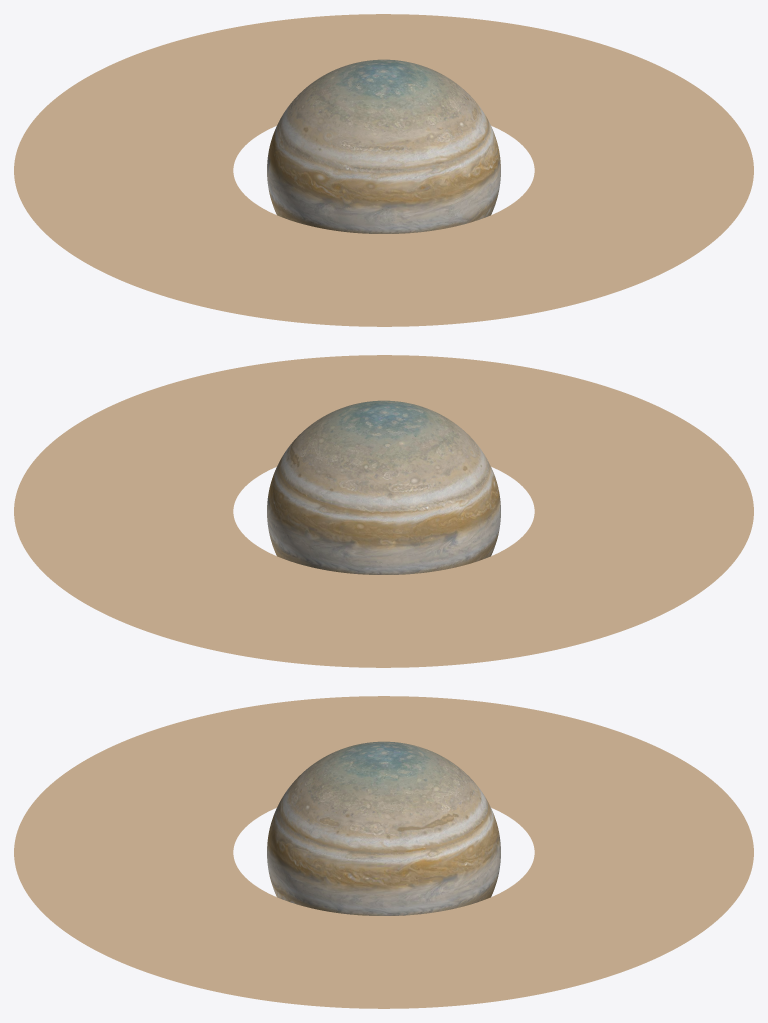
File: jupiter.glb
3 renders of one model, top to bottom at view 1: azimuth 30°, elevation 25°; view 2: azimuth 150°, elevation 25°; view 3: azimuth 270°, elevation 25°, orthographic.
Visible parts, largest first — view 1: jupiter_rings, jupiter_globe; view 2: jupiter_rings, jupiter_globe; view 3: jupiter_rings, jupiter_globe.
Boxes of the visible parts, x1,y1,x2,y2 form: jupiter_rings: (14, 14, 753, 326); jupiter_globe: (267, 59, 500, 233); jupiter_rings: (14, 355, 753, 667); jupiter_globe: (267, 400, 500, 574); jupiter_rings: (14, 696, 753, 1008); jupiter_globe: (267, 741, 500, 915).
Size of the model in its own units: 6.32 by 1.87 by 6.32.
Materials: 2 (2 with a texture image).
